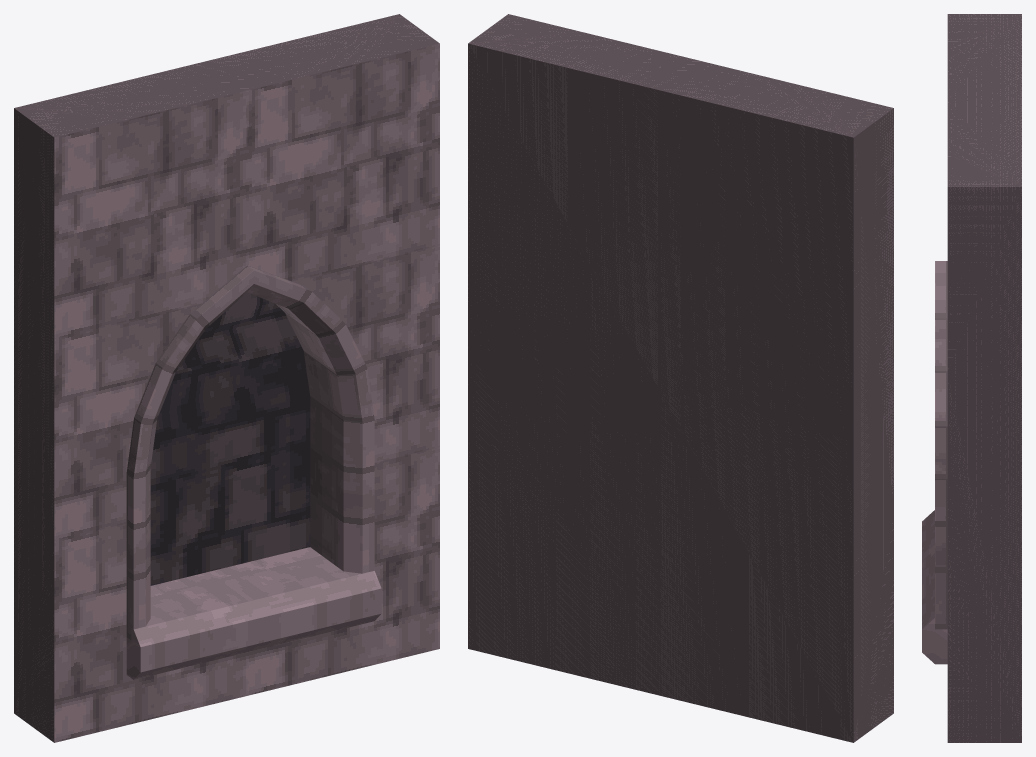
File: wandnische_t30_a.glb
3 views of the same model, side by side, from view 1: azimuth 30°, elevation 25°; view 2: azimuth 150°, elevation 25°; view 3: azimuth 270°, elevation 25° (orthographic). The views are drawn at different scales.
Parts seen in each view (by area): view 1: platte, gewaende, sohlbank; view 2: platte; view 3: platte, gewaende, sohlbank.
Boxes of the visible parts, x1=… form: platte: x1=14, y1=14, x2=439, y2=742; gewaende: x1=126, y1=265, x2=374, y2=639; sohlbank: x1=126, y1=547, x2=381, y2=679; platte: x1=468, y1=14, x2=893, y2=742; platte: x1=947, y1=14, x2=1021, y2=742; gewaende: x1=935, y1=261, x2=947, y2=629; sohlbank: x1=922, y1=510, x2=947, y2=664.
Bounding box in the file's own units: 2 × 3 × 0.4875.
1 material, 1 textured.
